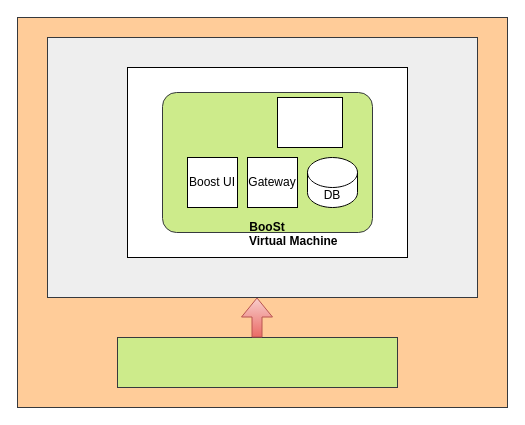
Some shapes in this 525 by 425 pixel diagram are drawn without their labels. The box of each missing label's shape, as (x1, y1, x2, y2) in pixels:
FIO: (276, 96, 342, 148)
Openstack: (46, 36, 478, 298)
Storage: (116, 336, 398, 388)
